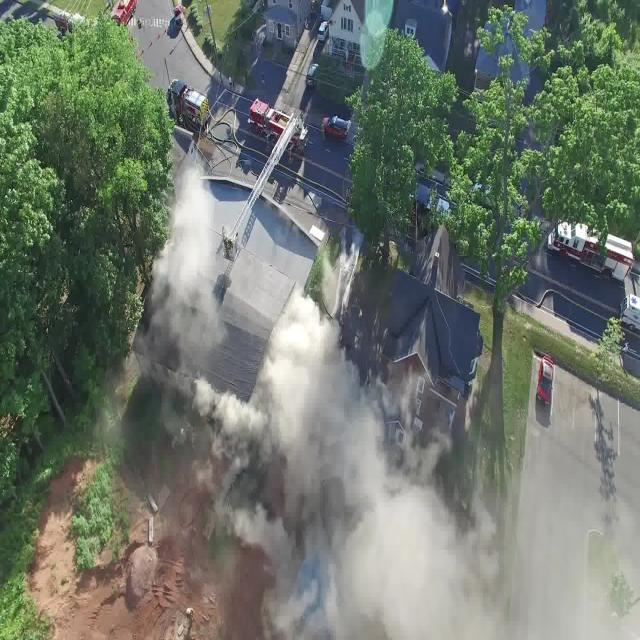Smoke: (148, 156, 640, 640)
